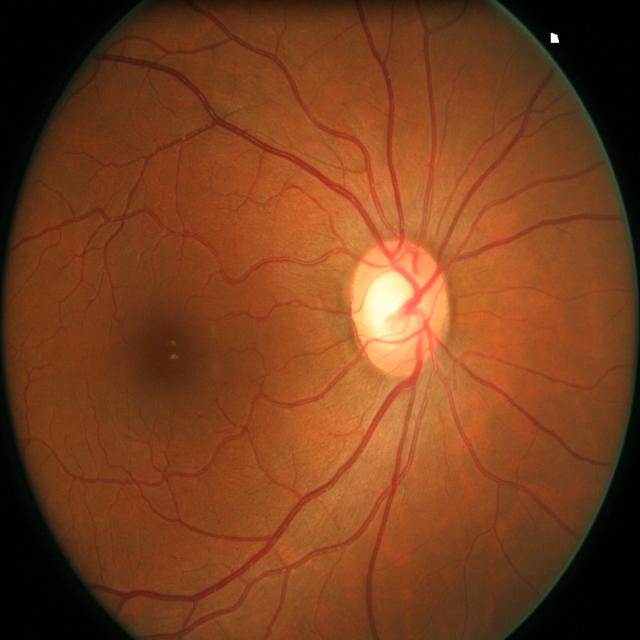OC: (366, 271, 423, 343)
OD: (350, 238, 452, 373)
